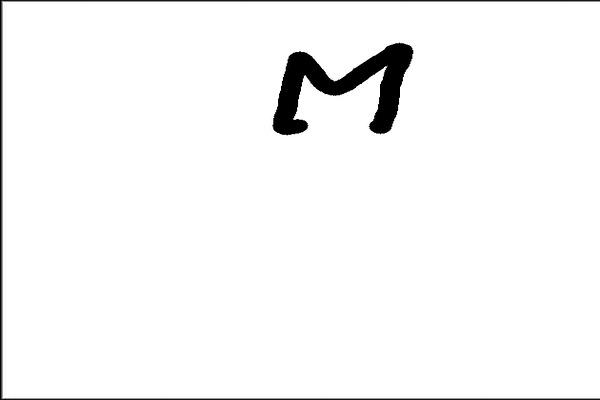M: (265, 40, 414, 137)
